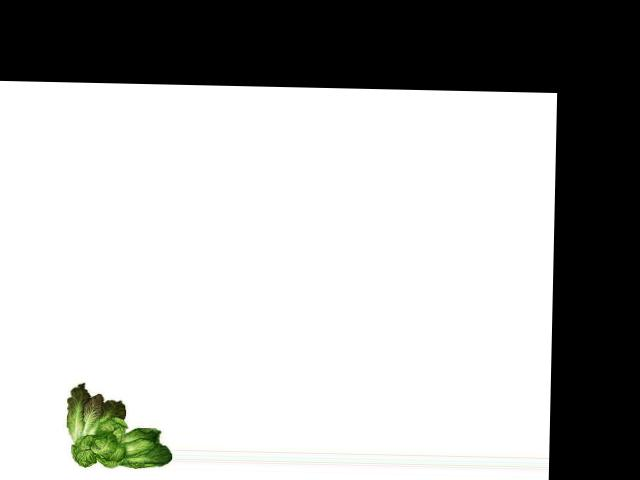lettuce: (63, 377, 174, 475)
